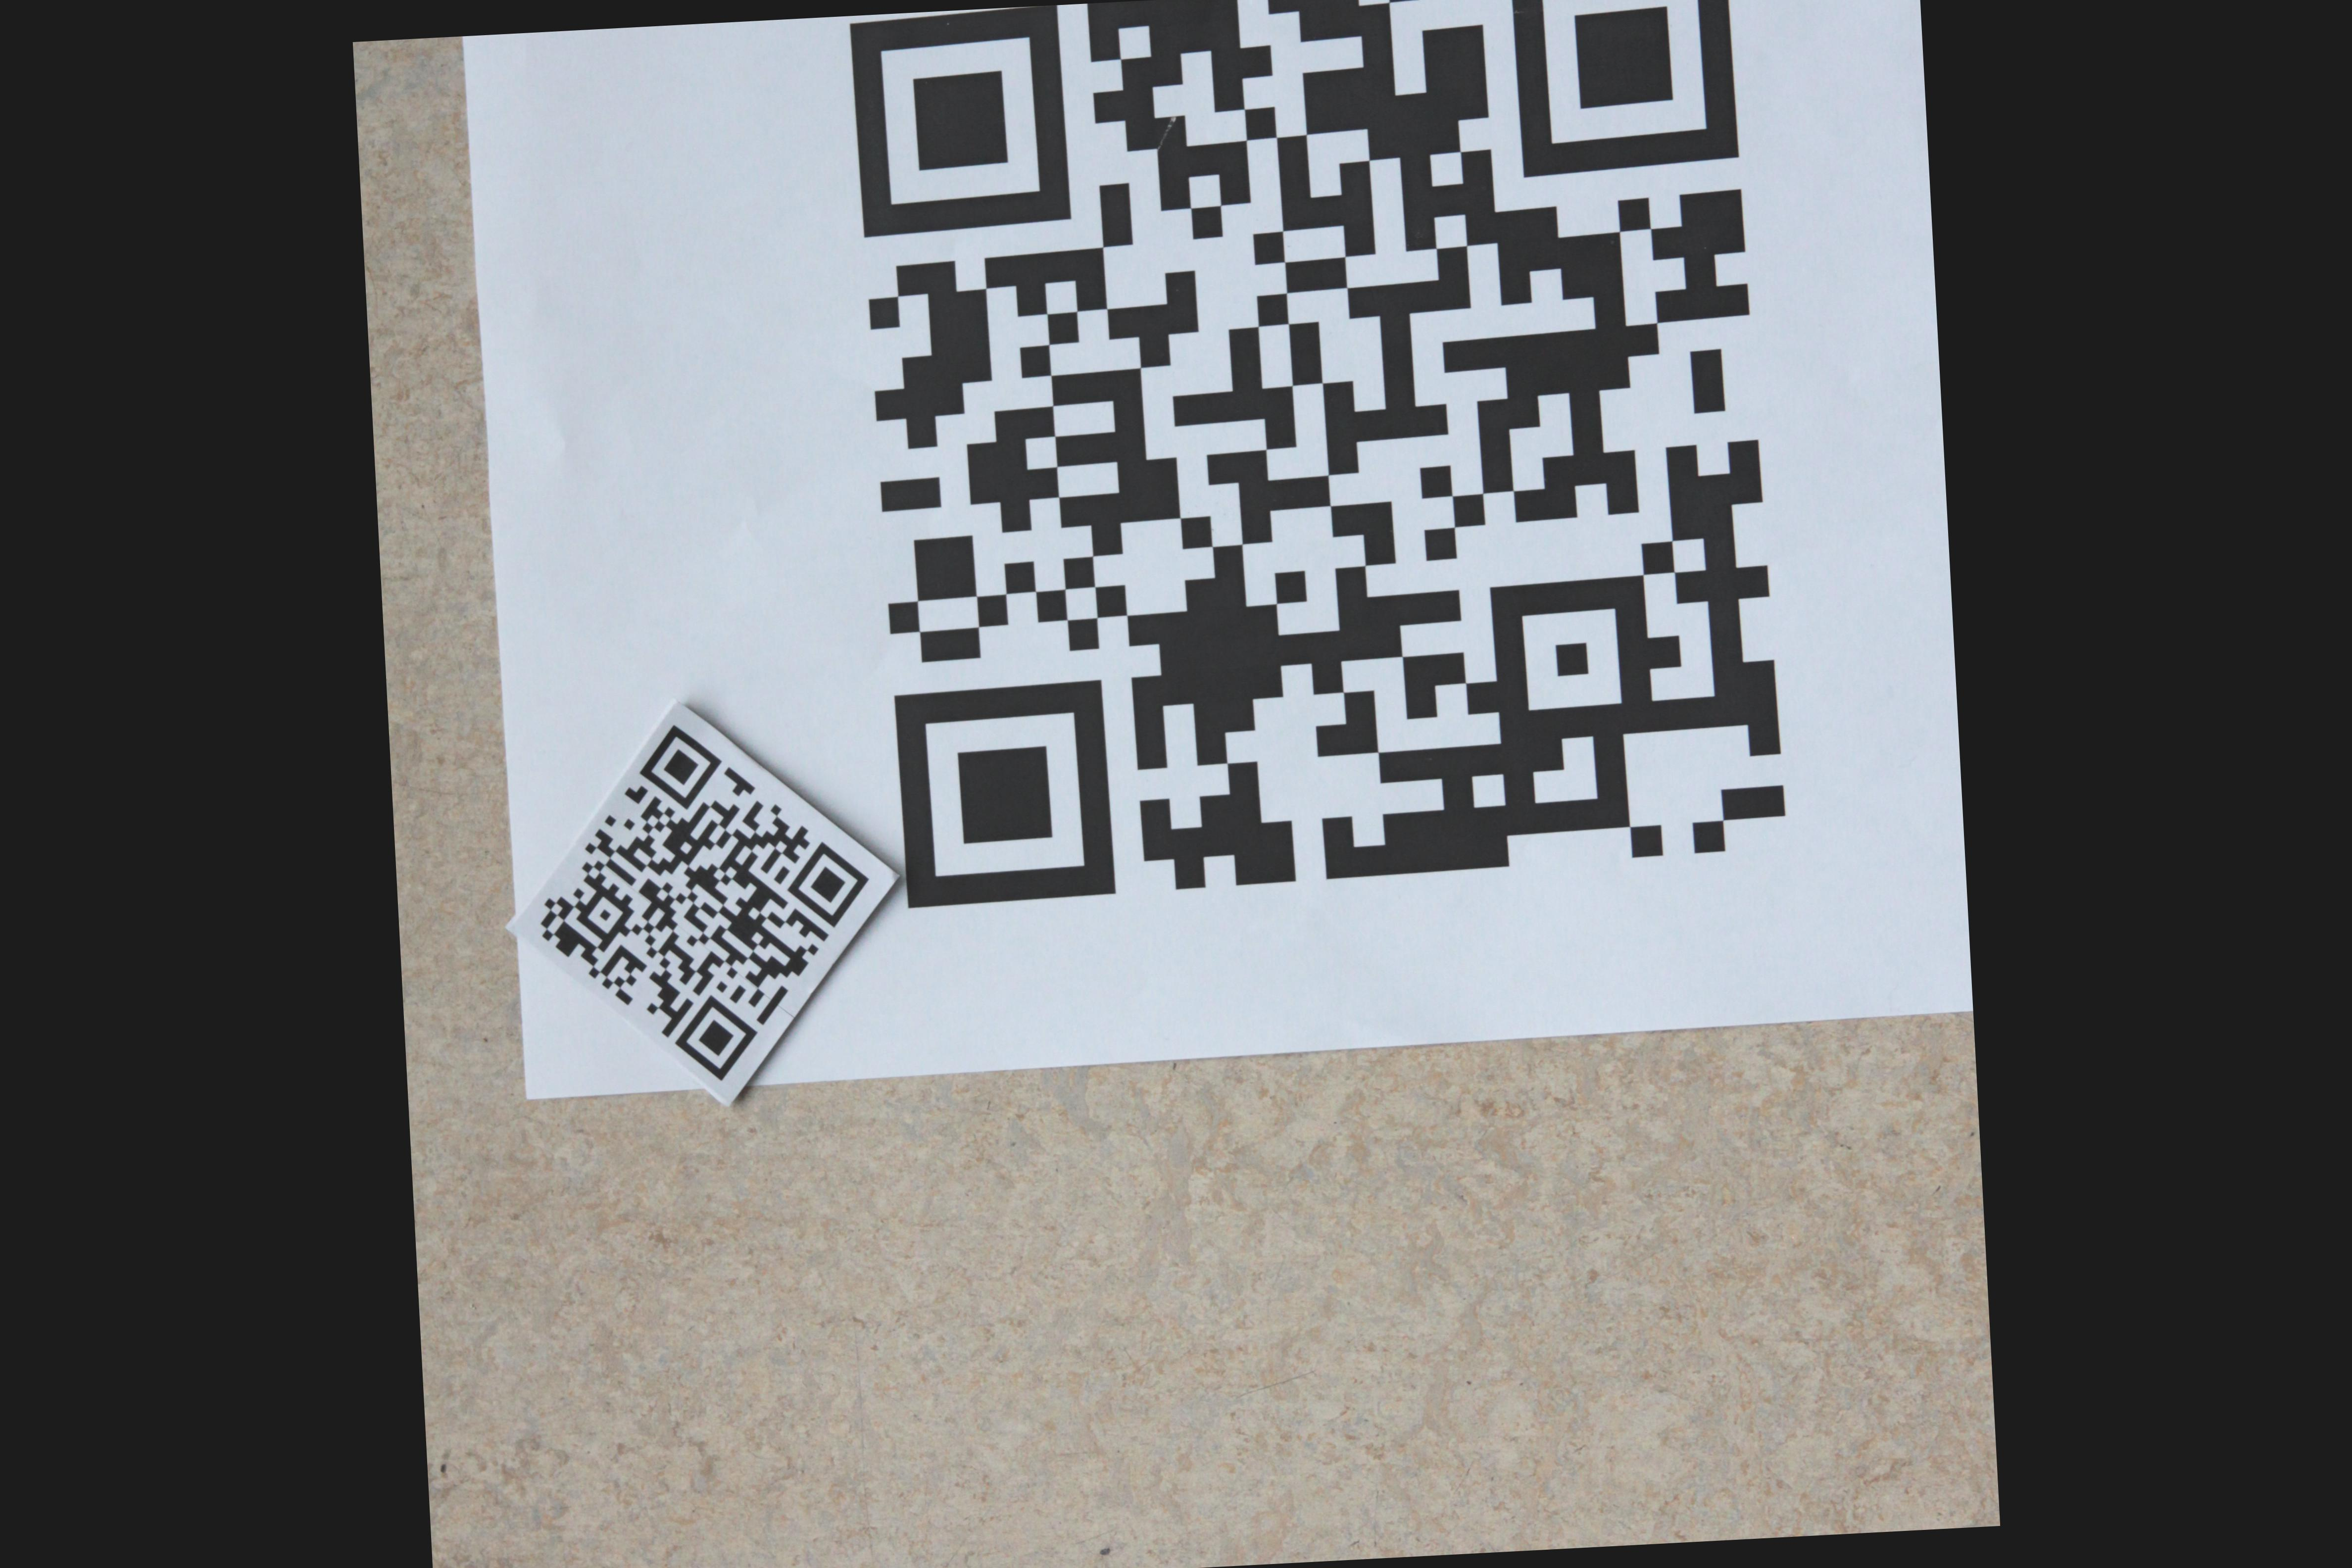QR: (856, 0, 1794, 913), (539, 698, 900, 1106)
